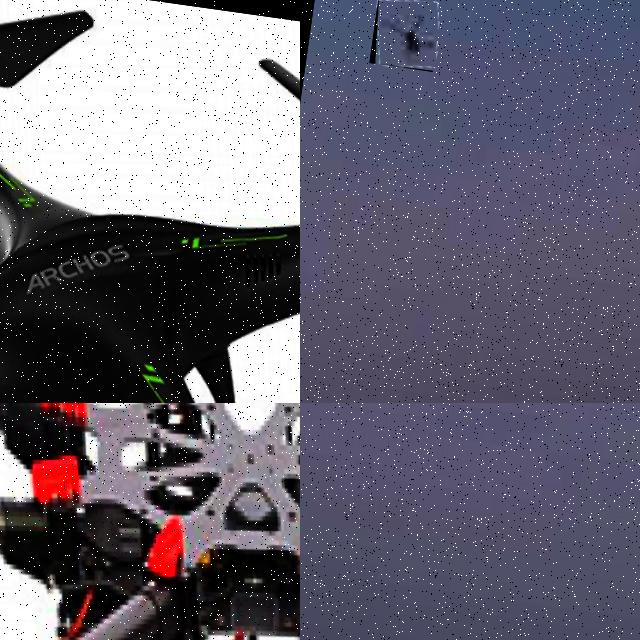drone: (0, 0, 300, 403), (0, 403, 300, 640), (370, 0, 443, 72)
